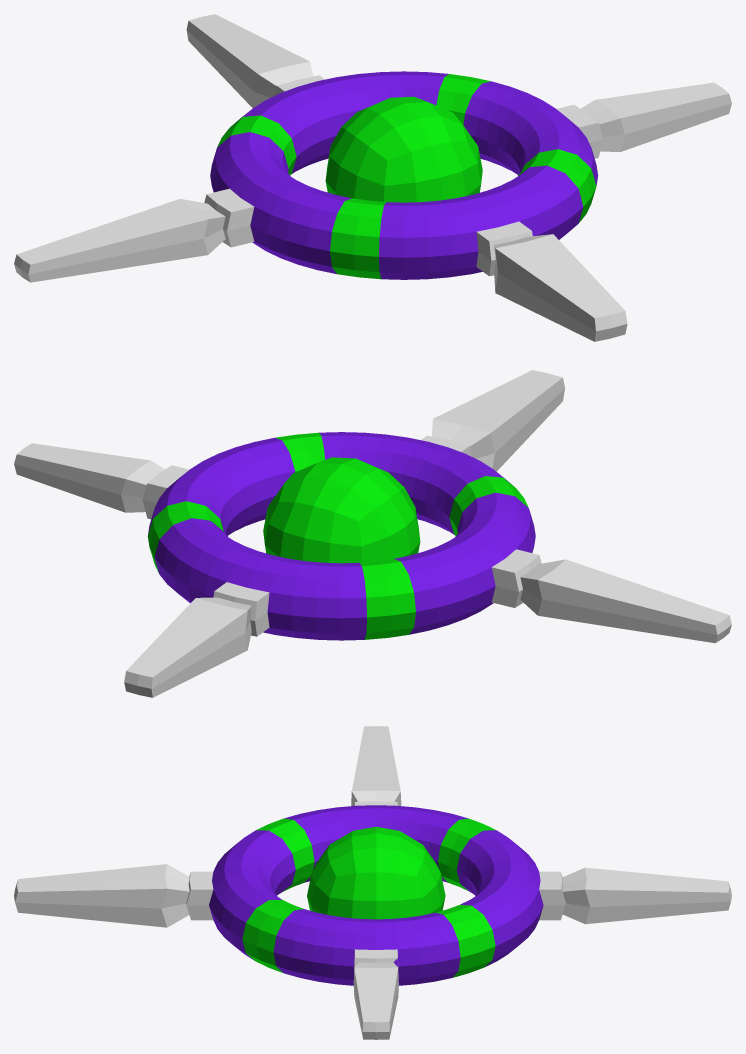
File: SpinEnemy.fbx
3 renders of one model, top to bottom at view 1: azimuth 30°, elevation 25°; view 2: azimuth 150°, elevation 25°; view 3: azimuth 270°, elevation 25°, orthographic. The views are drawn at different scales.
Parts seen in each view (by area): view 1: Torus, Roundcube; view 2: Torus, Roundcube; view 3: Torus, Roundcube.
Boxes of the visible parts, box(x1,y1,x2,y2) form: Torus: box(14, 14, 731, 341); Roundcube: box(325, 96, 482, 202); Torus: box(14, 370, 731, 697); Roundcube: box(263, 457, 420, 563); Torus: box(14, 726, 731, 1039); Roundcube: box(307, 827, 445, 919).
Size of the model in its own units: 3295 by 645 by 3341.
